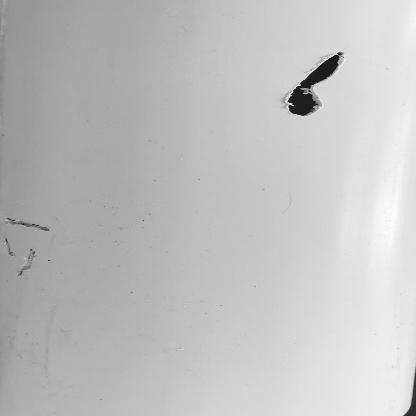fengxi: (2, 216, 55, 237), (16, 248, 39, 276), (1, 237, 16, 257)
kongdong: (282, 50, 348, 119)
